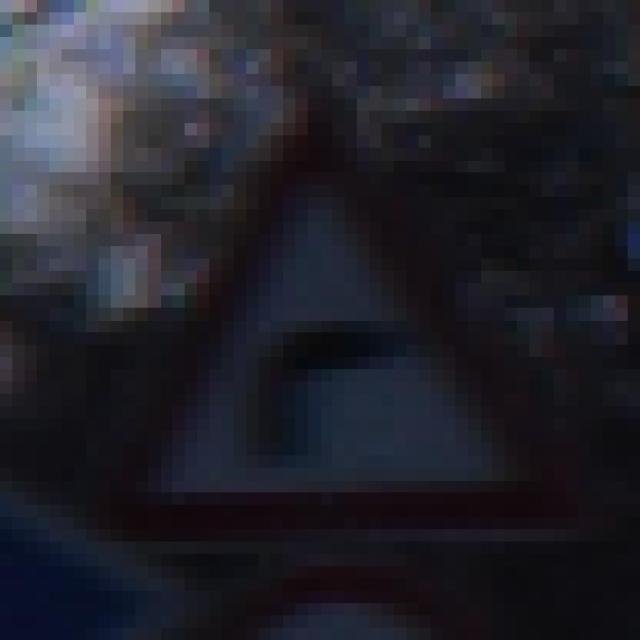Dangerous Rright Curve Ahead: (74, 74, 566, 529)
